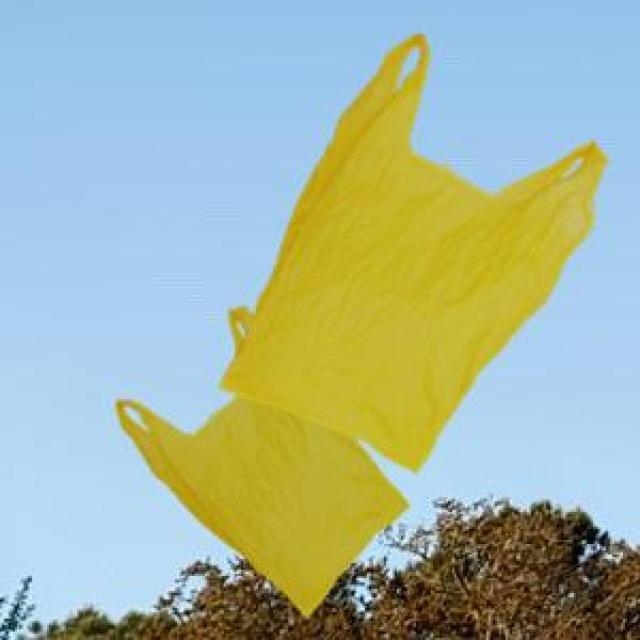waste: (116, 36, 605, 614)
